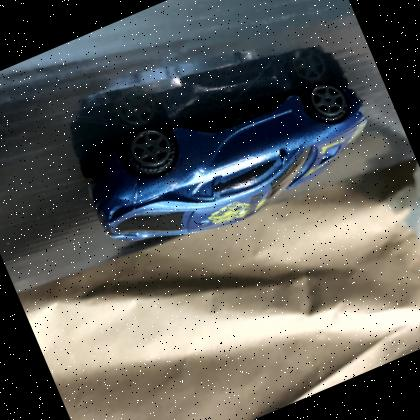Car: (90, 79, 366, 240)
